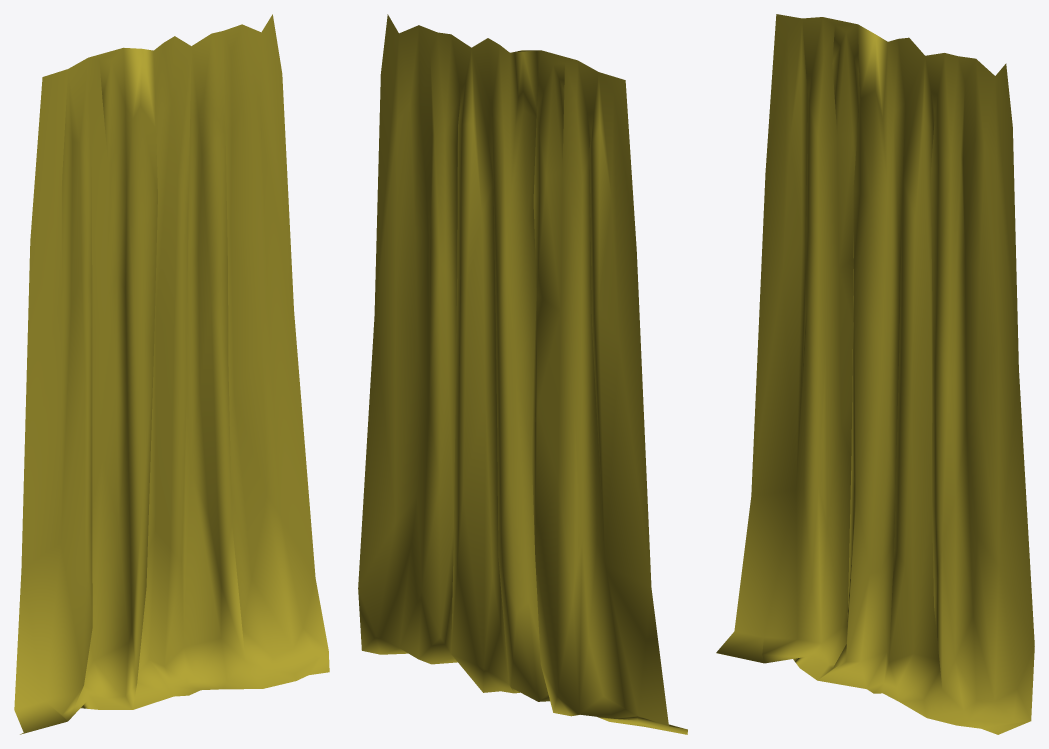
File: curtain_single.fbx
The picture shows the model from 3 angles, left to right: view 1: azimuth 30°, elevation 25°; view 2: azimuth 150°, elevation 25°; view 3: azimuth 330°, elevation 25°; orthographic projection. The views are drawn at different scales.
Visible parts, largest first — view 1: curtain; view 2: curtain; view 3: curtain.
Part boxes in pixels (x1,y1,x2,y2): curtain: (14,14,329,734); curtain: (358,14,687,734); curtain: (716,14,1034,734).
Size of the model in its own units: 1094 by 2157 by 270.
